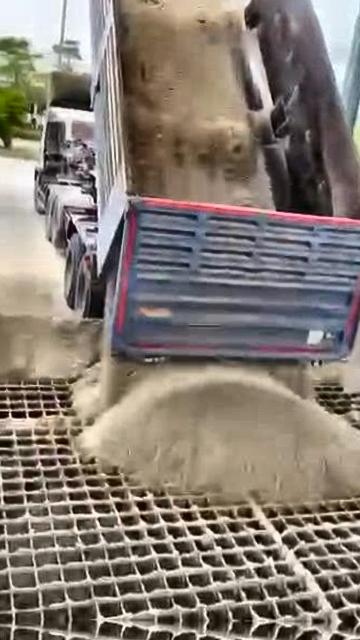sand: (77, 331, 360, 524), (119, 0, 274, 207), (0, 311, 99, 382), (275, 529, 336, 621)
